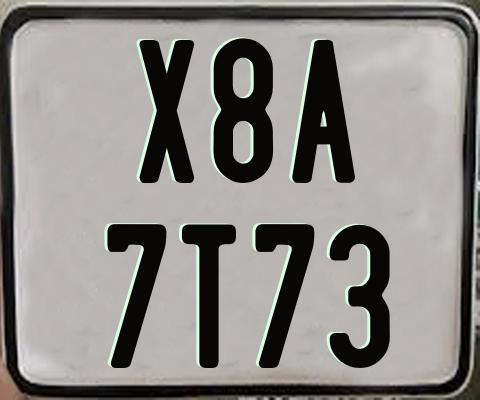3: (328, 225, 388, 374)
7: (105, 223, 171, 373), (255, 221, 319, 367)
8: (210, 38, 273, 183)
A: (290, 37, 354, 183)
T: (181, 221, 239, 367)
X: (139, 37, 197, 186)
